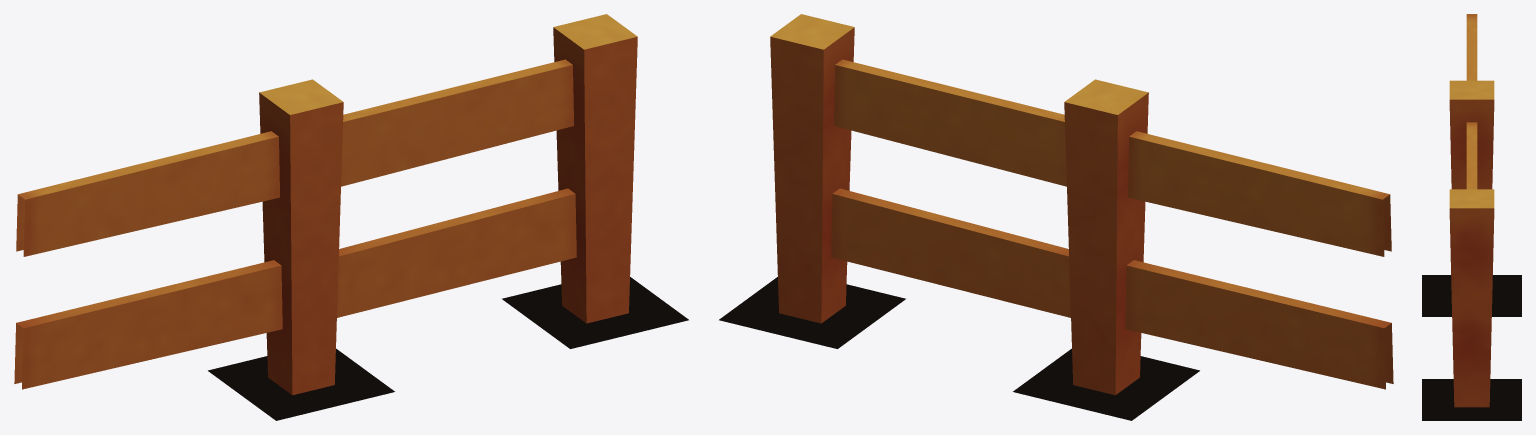
The model's file is green_1x2_fence.FBX.
The picture shows the model from 3 angles, left to right: view 1: azimuth 30°, elevation 25°; view 2: azimuth 150°, elevation 25°; view 3: azimuth 270°, elevation 25°; orthographic projection. The views are drawn at different scales.
Visible parts, largest first — view 1: green_1x2_fence, green_1x2_fence_soft_shadow; view 2: green_1x2_fence, green_1x2_fence_soft_shadow; view 3: green_1x2_fence, green_1x2_fence_soft_shadow.
Part boxes in pixels (left/top/right/bottom): green_1x2_fence: left=14, top=14, right=637, bottom=395; green_1x2_fence_soft_shadow: left=208, top=277, right=688, bottom=420; green_1x2_fence: left=770, top=14, right=1393, bottom=395; green_1x2_fence_soft_shadow: left=719, top=277, right=1199, bottom=420; green_1x2_fence: left=1449, top=14, right=1494, bottom=407; green_1x2_fence_soft_shadow: left=1422, top=275, right=1521, bottom=420.
Size of the model in its own units: 2137 by 920 by 400.
